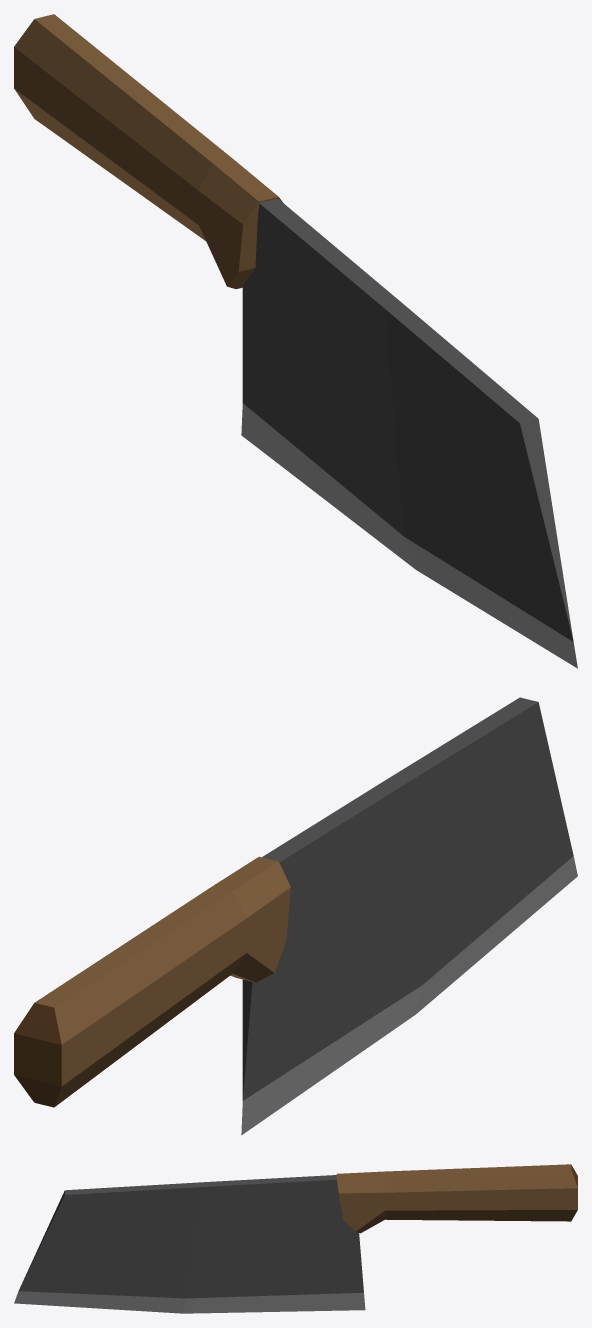
File: knife_6.fbx
3 views of the same model, one above another, from view 1: azimuth 30°, elevation 25°; view 2: azimuth 150°, elevation 25°; view 3: azimuth 270°, elevation 25° (orthographic). The views are drawn at different scales.
Visible parts, largest first — view 1: knife_6; view 2: knife_6; view 3: knife_6.
Part boxes in pixels (bbox=[...]): knife_6: bbox=[14, 14, 577, 668]; knife_6: bbox=[14, 697, 577, 1135]; knife_6: bbox=[14, 1164, 577, 1313].
Bounding box in the file's own units: 3.56 × 20.08 × 69.88.
Materials: 1 (1 with a texture image).
